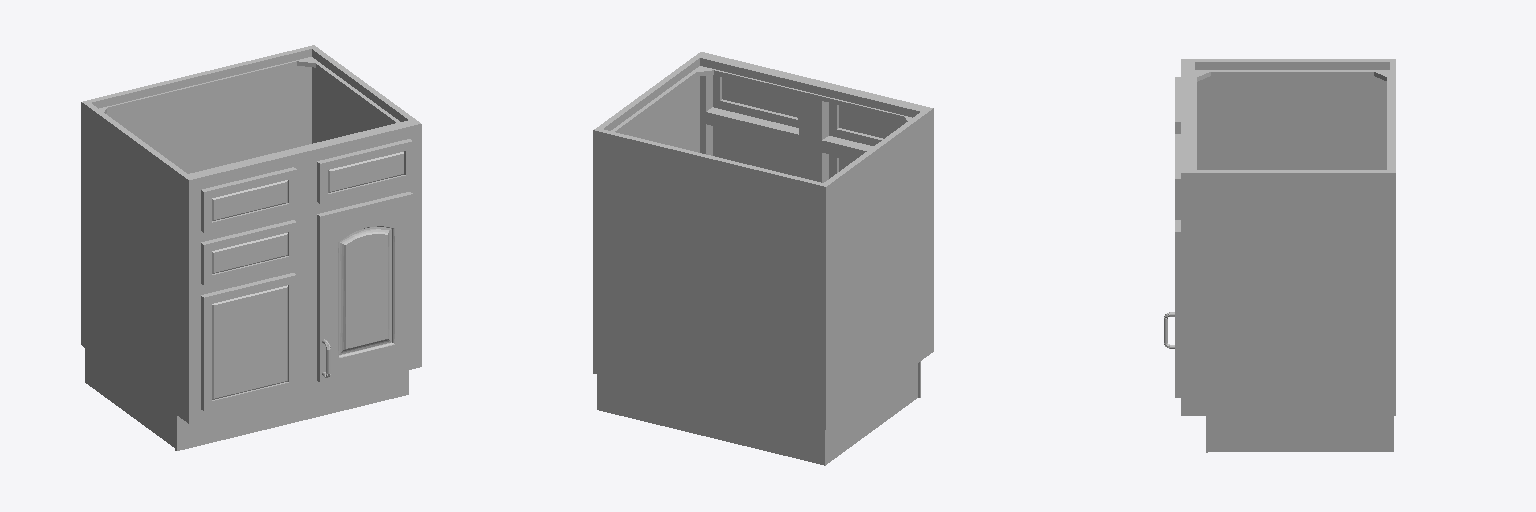
The model's file is yyf.obj.
3 renders of one model, left to right at view 1: azimuth 30°, elevation 25°; view 2: azimuth 150°, elevation 25°; view 3: azimuth 270°, elevation 25°, orthographic.
Parts seen in each view (by area): view 1: _Extrusion_[2366]__Extrusion_[2366]_Geometry, _Extrusion_[2514]__Extrusion_[2514]_Geometry, Panel_Cabinet_Raised-Arch_Parametric_[7703]_Panel_Cabinet_Raised, _Blend_[7848]__Blend_[7848]_Geometry, _Extrusion_[2446]__Extrusion_[2446]_Geometry, _Extrusion_[2393]__Extrusion_[2393]_Geometry, _Extrusion_[7830]__Extrusion_[7830]_Geometry, _Extrusion_[2411]__Extrusion_[2411]_Geometry, _Extrusion_[7783]__Extrusion_[7783]_Geometry, _Extrusion_[2458]__Extrusion_[2458]_Geometry, _Blend_[7801]__Blend_[7801]_Geometry, _Blend_[2437]__Blend_[2437]_Geometry (+1 smaller); view 2: _Extrusion_[2366]__Extrusion_[2366]_Geometry, _Extrusion_[2411]__Extrusion_[2411]_Geometry, _Extrusion_[2514]__Extrusion_[2514]_Geometry, Panel_Cabinet_Raised-Arch_Parametric_[7703]_Panel_Cabinet_Raised, _Extrusion_[2393]__Extrusion_[2393]_Geometry, _Extrusion_[2458]__Extrusion_[2458]_Geometry, _Blend_[2437]__Blend_[2437]_Geometry, _Blend_[2403]__Blend_[2403]_Geometry; view 3: _Extrusion_[2366]__Extrusion_[2366]_Geometry, _Extrusion_[2411]__Extrusion_[2411]_Geometry, _Extrusion_[2514]__Extrusion_[2514]_Geometry, _Extrusion_[2458]__Extrusion_[2458]_Geometry, Panel_Cabinet_Raised-Arch_Parametric_[7703]_Panel_Cabinet_Raised, _Extrusion_[2393]__Extrusion_[2393]_Geometry.
Boxes of the visible parts, x1,y1,x2,y2 form: _Extrusion_[2366]__Extrusion_[2366]_Geometry: [81, 45, 414, 418]; _Extrusion_[2514]__Extrusion_[2514]_Geometry: [182, 119, 421, 423]; Panel_Cabinet_Raised-Arch_Parametric_[7703]_Panel_Cabinet_Raised: [317, 192, 412, 382]; _Blend_[7848]__Blend_[7848]_Geometry: [212, 285, 287, 399]; _Extrusion_[2446]__Extrusion_[2446]_Geometry: [175, 370, 408, 450]; _Extrusion_[2393]__Extrusion_[2393]_Geometry: [201, 139, 412, 232]; _Extrusion_[7830]__Extrusion_[7830]_Geometry: [201, 273, 296, 410]; _Extrusion_[2411]__Extrusion_[2411]_Geometry: [85, 348, 174, 447]; _Extrusion_[7783]__Extrusion_[7783]_Geometry: [201, 220, 296, 284]; _Extrusion_[2458]__Extrusion_[2458]_Geometry: [99, 57, 399, 123]; _Blend_[7801]__Blend_[7801]_Geometry: [212, 233, 287, 273]; _Blend_[2437]__Blend_[2437]_Geometry: [328, 152, 403, 192]; _Extrusion_[2366]__Extrusion_[2366]_Geometry: [593, 57, 926, 429]; _Extrusion_[2411]__Extrusion_[2411]_Geometry: [597, 364, 917, 465]; _Extrusion_[2514]__Extrusion_[2514]_Geometry: [694, 52, 933, 355]; Panel_Cabinet_Raised-Arch_Parametric_[7703]_Panel_Cabinet_Raised: [713, 126, 798, 176]; _Extrusion_[2393]__Extrusion_[2393]_Geometry: [713, 75, 904, 145]; _Extrusion_[2458]__Extrusion_[2458]_Geometry: [611, 66, 911, 132]; _Blend_[2437]__Blend_[2437]_Geometry: [722, 77, 797, 117]; _Blend_[2403]__Blend_[2403]_Geometry: [839, 106, 904, 138]; _Extrusion_[2366]__Extrusion_[2366]_Geometry: [1195, 59, 1395, 415]; _Extrusion_[2411]__Extrusion_[2411]_Geometry: [1208, 416, 1393, 451]; _Extrusion_[2514]__Extrusion_[2514]_Geometry: [1181, 59, 1194, 415]; _Extrusion_[2458]__Extrusion_[2458]_Geometry: [1195, 70, 1389, 169]; Panel_Cabinet_Raised-Arch_Parametric_[7703]_Panel_Cabinet_Raised: [1164, 220, 1180, 397]; _Extrusion_[2393]__Extrusion_[2393]_Geometry: [1175, 77, 1180, 219].
Size of the model in its own units: 0.762 by 0.8763 by 0.6604.